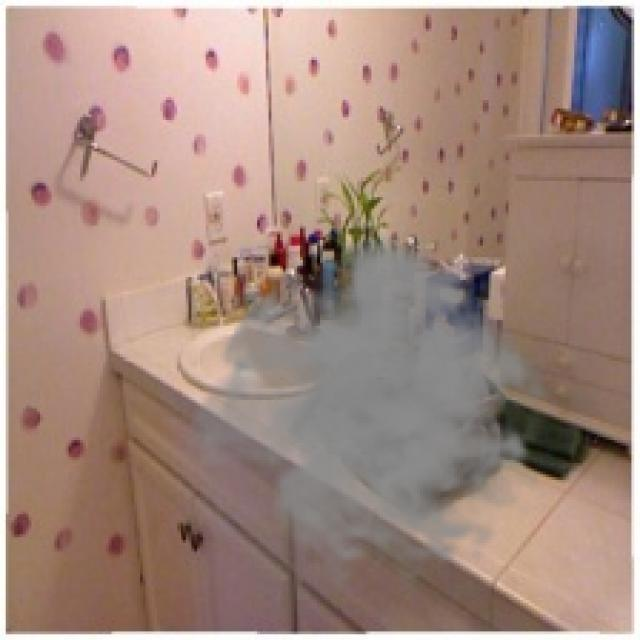Smoke: (183, 231, 566, 586)
